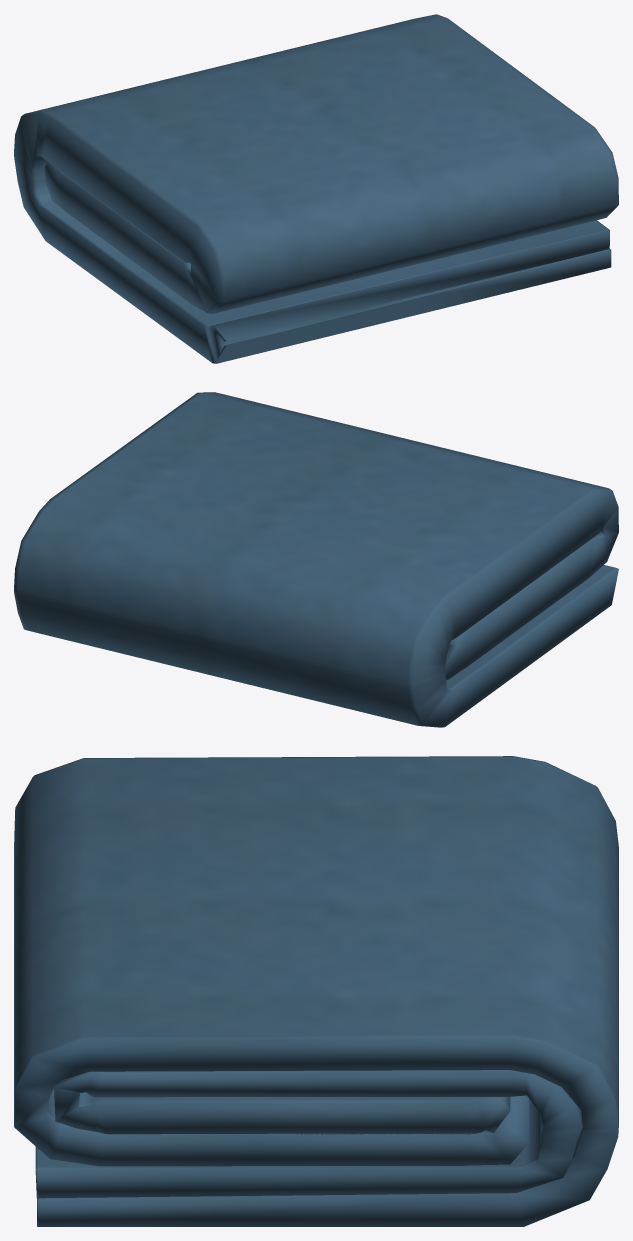
Rendered from 13. Single_2.fbx.
3 views of the same model, one above another, from view 1: azimuth 30°, elevation 25°; view 2: azimuth 150°, elevation 25°; view 3: azimuth 270°, elevation 25° (orthographic). The views are drawn at different scales.
Visible parts, largest first — view 1: Single_2; view 2: Single_2; view 3: Single_2.
Part boxes in pixels (box(x1,y1,x2,y2)): Single_2: box(14, 14, 618, 363); Single_2: box(14, 392, 618, 727); Single_2: box(14, 756, 618, 1226).
Bounding box in the file's own units: 0.3238 × 0.0987 × 0.2857.
